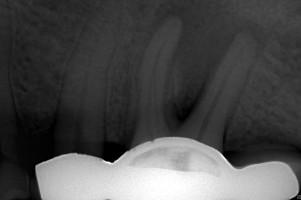Dental Caries: (152, 0, 270, 130)
